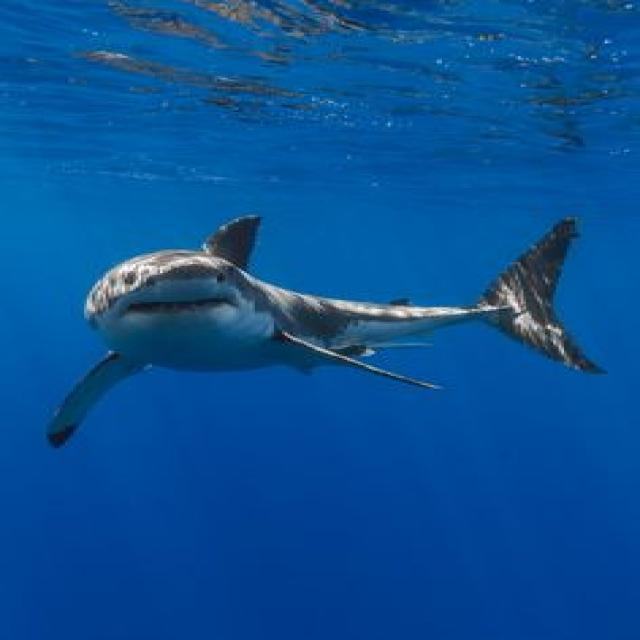Carnivorous: (49, 215, 607, 448)
